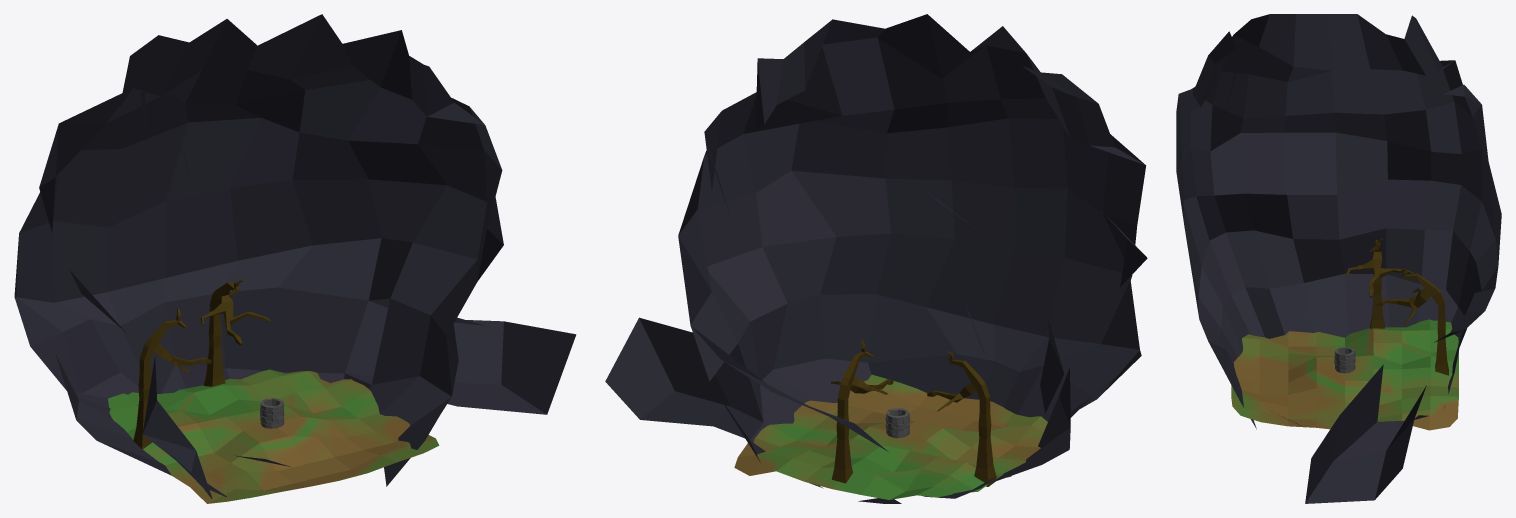
3 views of the same model, side by side, from view 1: azimuth 30°, elevation 25°; view 2: azimuth 150°, elevation 25°; view 3: azimuth 270°, elevation 25° (orthographic). The views are drawn at different scales.
Visible parts, largest first — view 1: Cave.001, Ground.001, Tree.001, Tree.003, Well.001; view 2: Cave.001, Ground.001, Tree.003, Tree.001, Well.001; view 3: Cave.001, Ground.001, Tree.001, Tree.003, Well.001.
Part boxes in pixels (box(x1,y1,x2,y2)): Cave.001: box(14, 14, 576, 498); Ground.001: box(108, 369, 439, 503); Tree.001: box(200, 279, 270, 386); Tree.003: box(133, 308, 211, 449); Well.001: box(260, 398, 284, 428); Cave.001: box(605, 14, 1147, 503); Ground.001: box(734, 374, 1047, 499); Tree.003: box(927, 351, 996, 486); Tree.001: box(831, 340, 893, 483); Well.001: box(885, 408, 909, 438); Cave.001: box(1176, 14, 1501, 503); Ground.001: box(1231, 319, 1458, 430); Tree.001: box(1376, 268, 1448, 375); Tree.003: box(1346, 238, 1413, 328); Well.001: box(1334, 347, 1355, 373).
Size of the model in its own units: 48.3 by 40.11 by 33.22.
6 materials, 2 textured.
